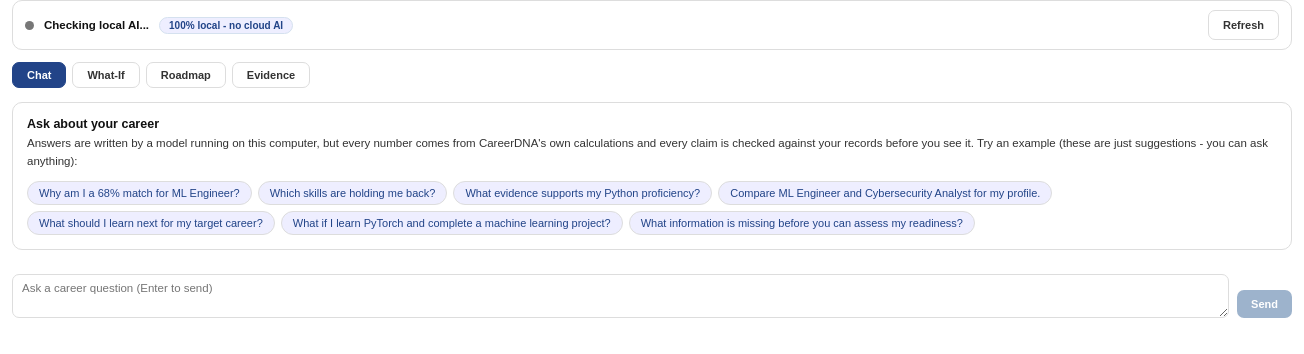
Test: evidence and roadmap › builds a roadmap with estimates and time-window flags
Click the button "Roadmap" at (186, 75), box [146,62,226,88]
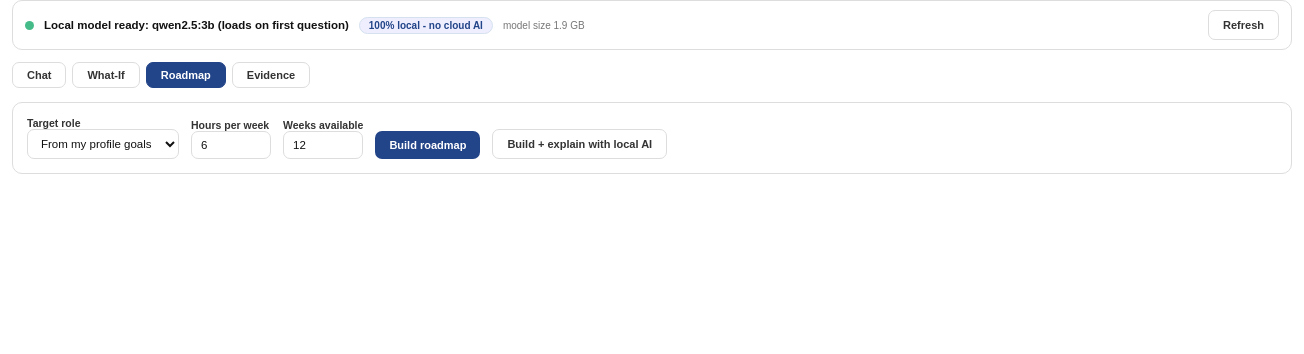
Click the button "Build roadmap" at (428, 145), box [375,131,480,159]
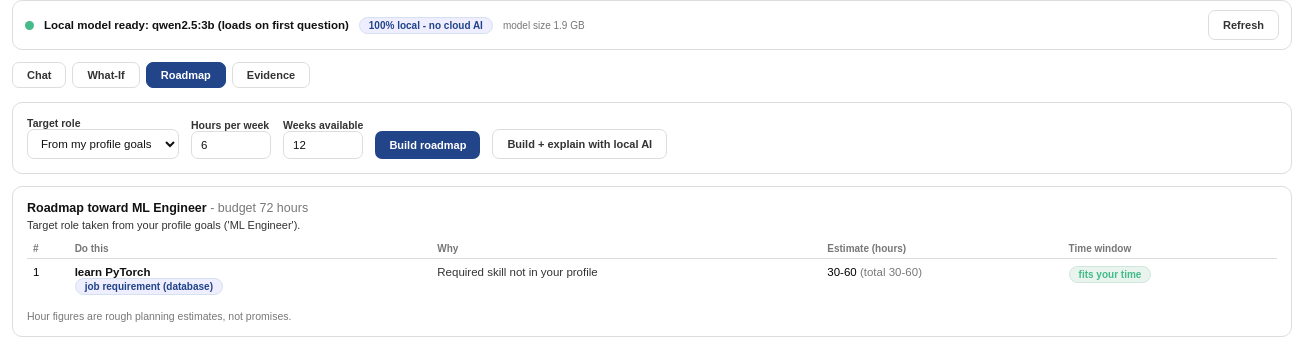
Check: the text "learn PyTorch job requirement (database)" is shown, box [69,258,431,302]
Check: the text "fits your time" is shown, box [1069,266,1151,283]
Check: the text "Hour figures are rough planning estimates, not promises." is shown, box [27,310,291,322]
